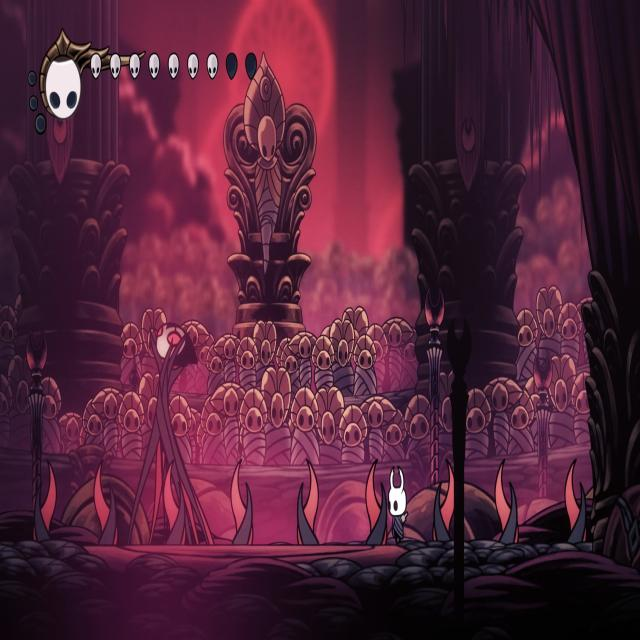Grimm: (133, 311, 216, 539)
Player: (386, 462, 412, 545)
Spikes: (564, 454, 592, 545), (161, 457, 187, 546), (363, 460, 390, 545), (296, 458, 321, 544), (230, 458, 255, 544), (94, 463, 120, 545), (496, 458, 521, 543), (32, 460, 57, 542), (435, 461, 457, 542)
